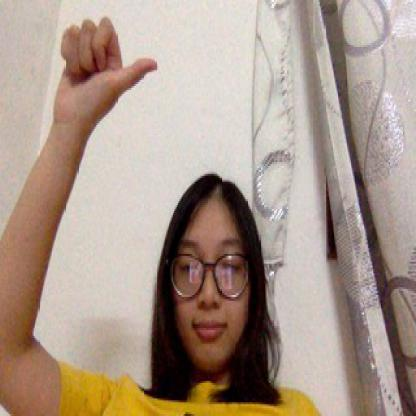left: (54, 14, 160, 131)
